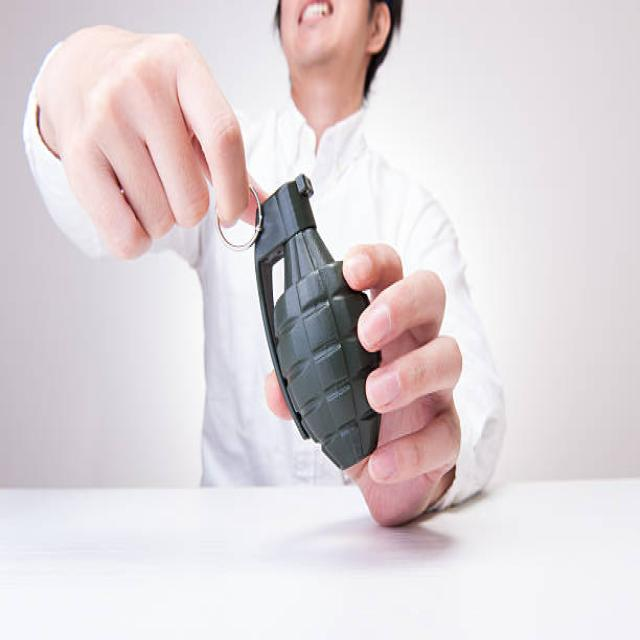grenade: (251, 174, 388, 472)
